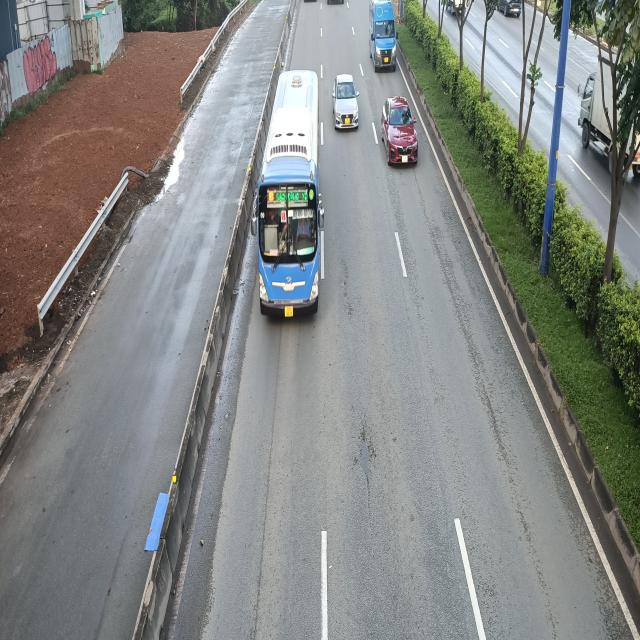car: (382, 97, 420, 167), (332, 74, 361, 131)
coach: (250, 69, 324, 319)
van: (370, 1, 399, 71)
